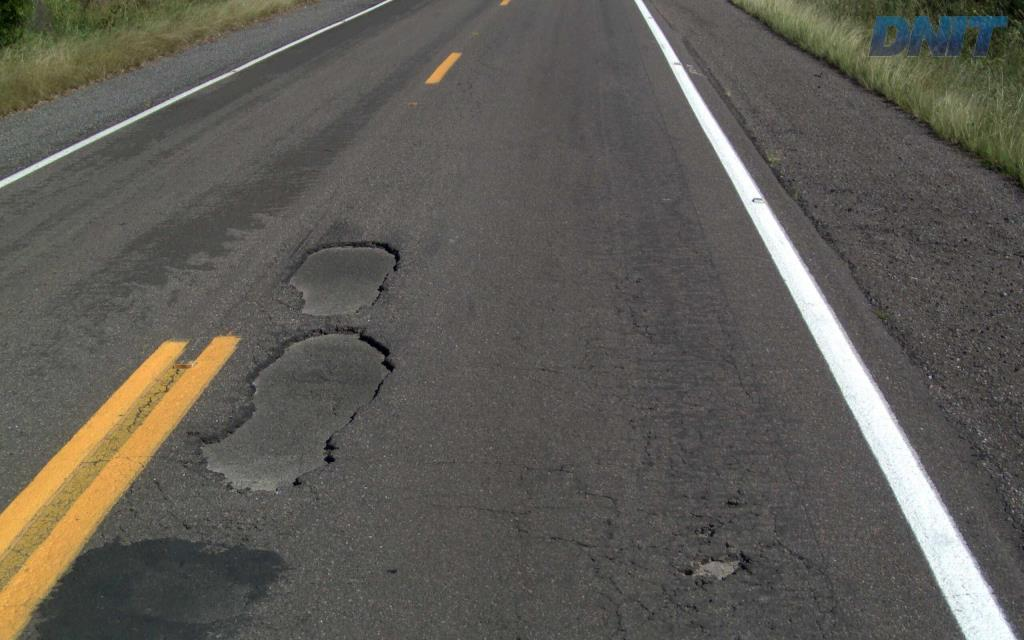crack: (808, 562, 844, 620), (740, 555, 782, 595), (654, 583, 699, 615), (685, 512, 725, 542)
pothole: (180, 234, 401, 502), (681, 554, 748, 577)
